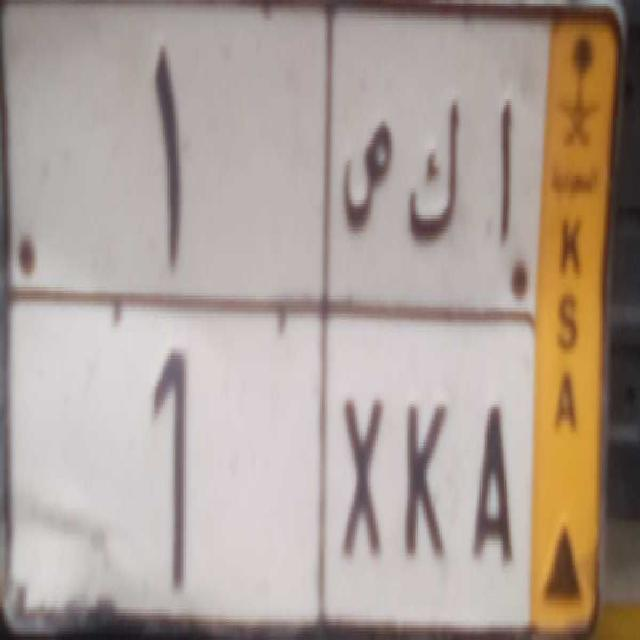license_plate: (3, 289, 530, 639)
